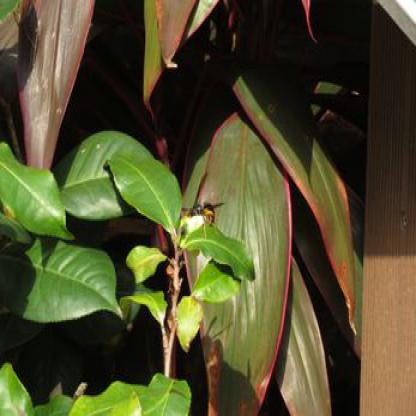Asian Hornet: (180, 197, 228, 226)
